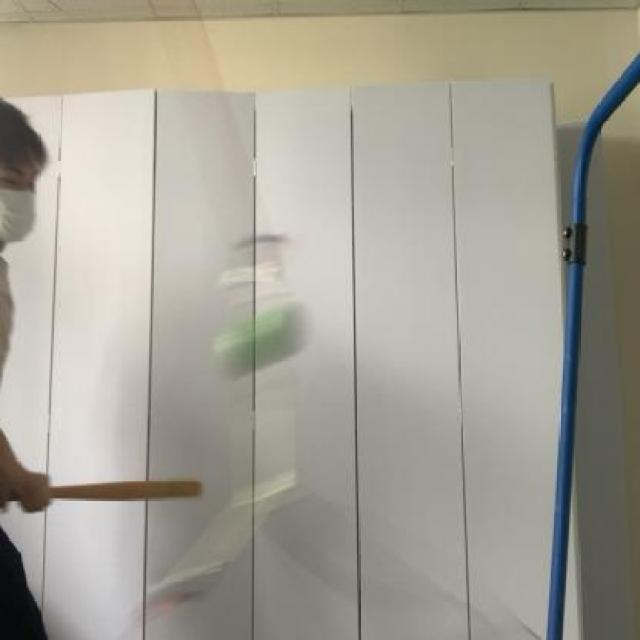baseball: (202, 287, 324, 398)
